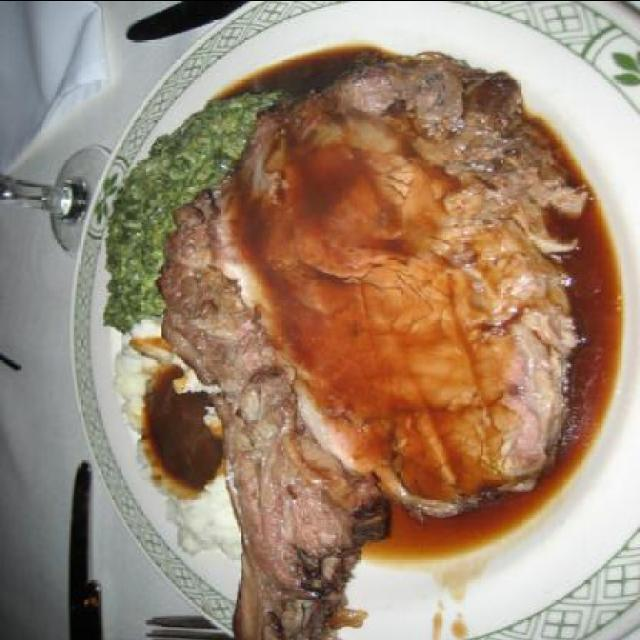Steak: (130, 50, 582, 612)
